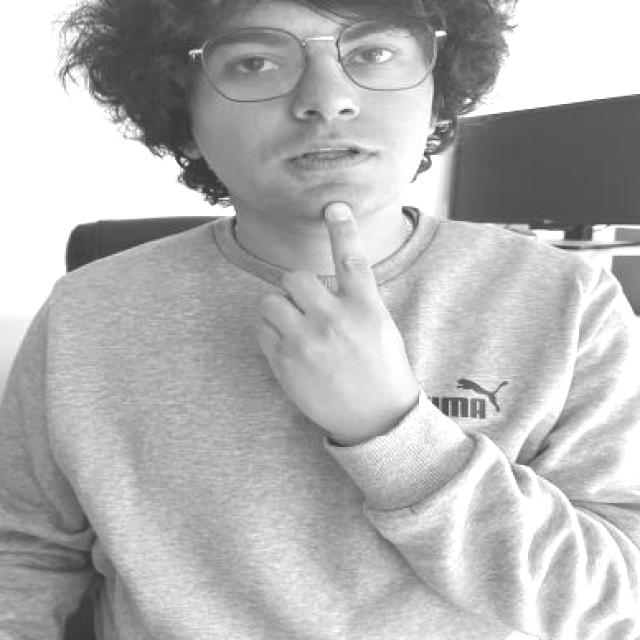T: (249, 196, 419, 436)
